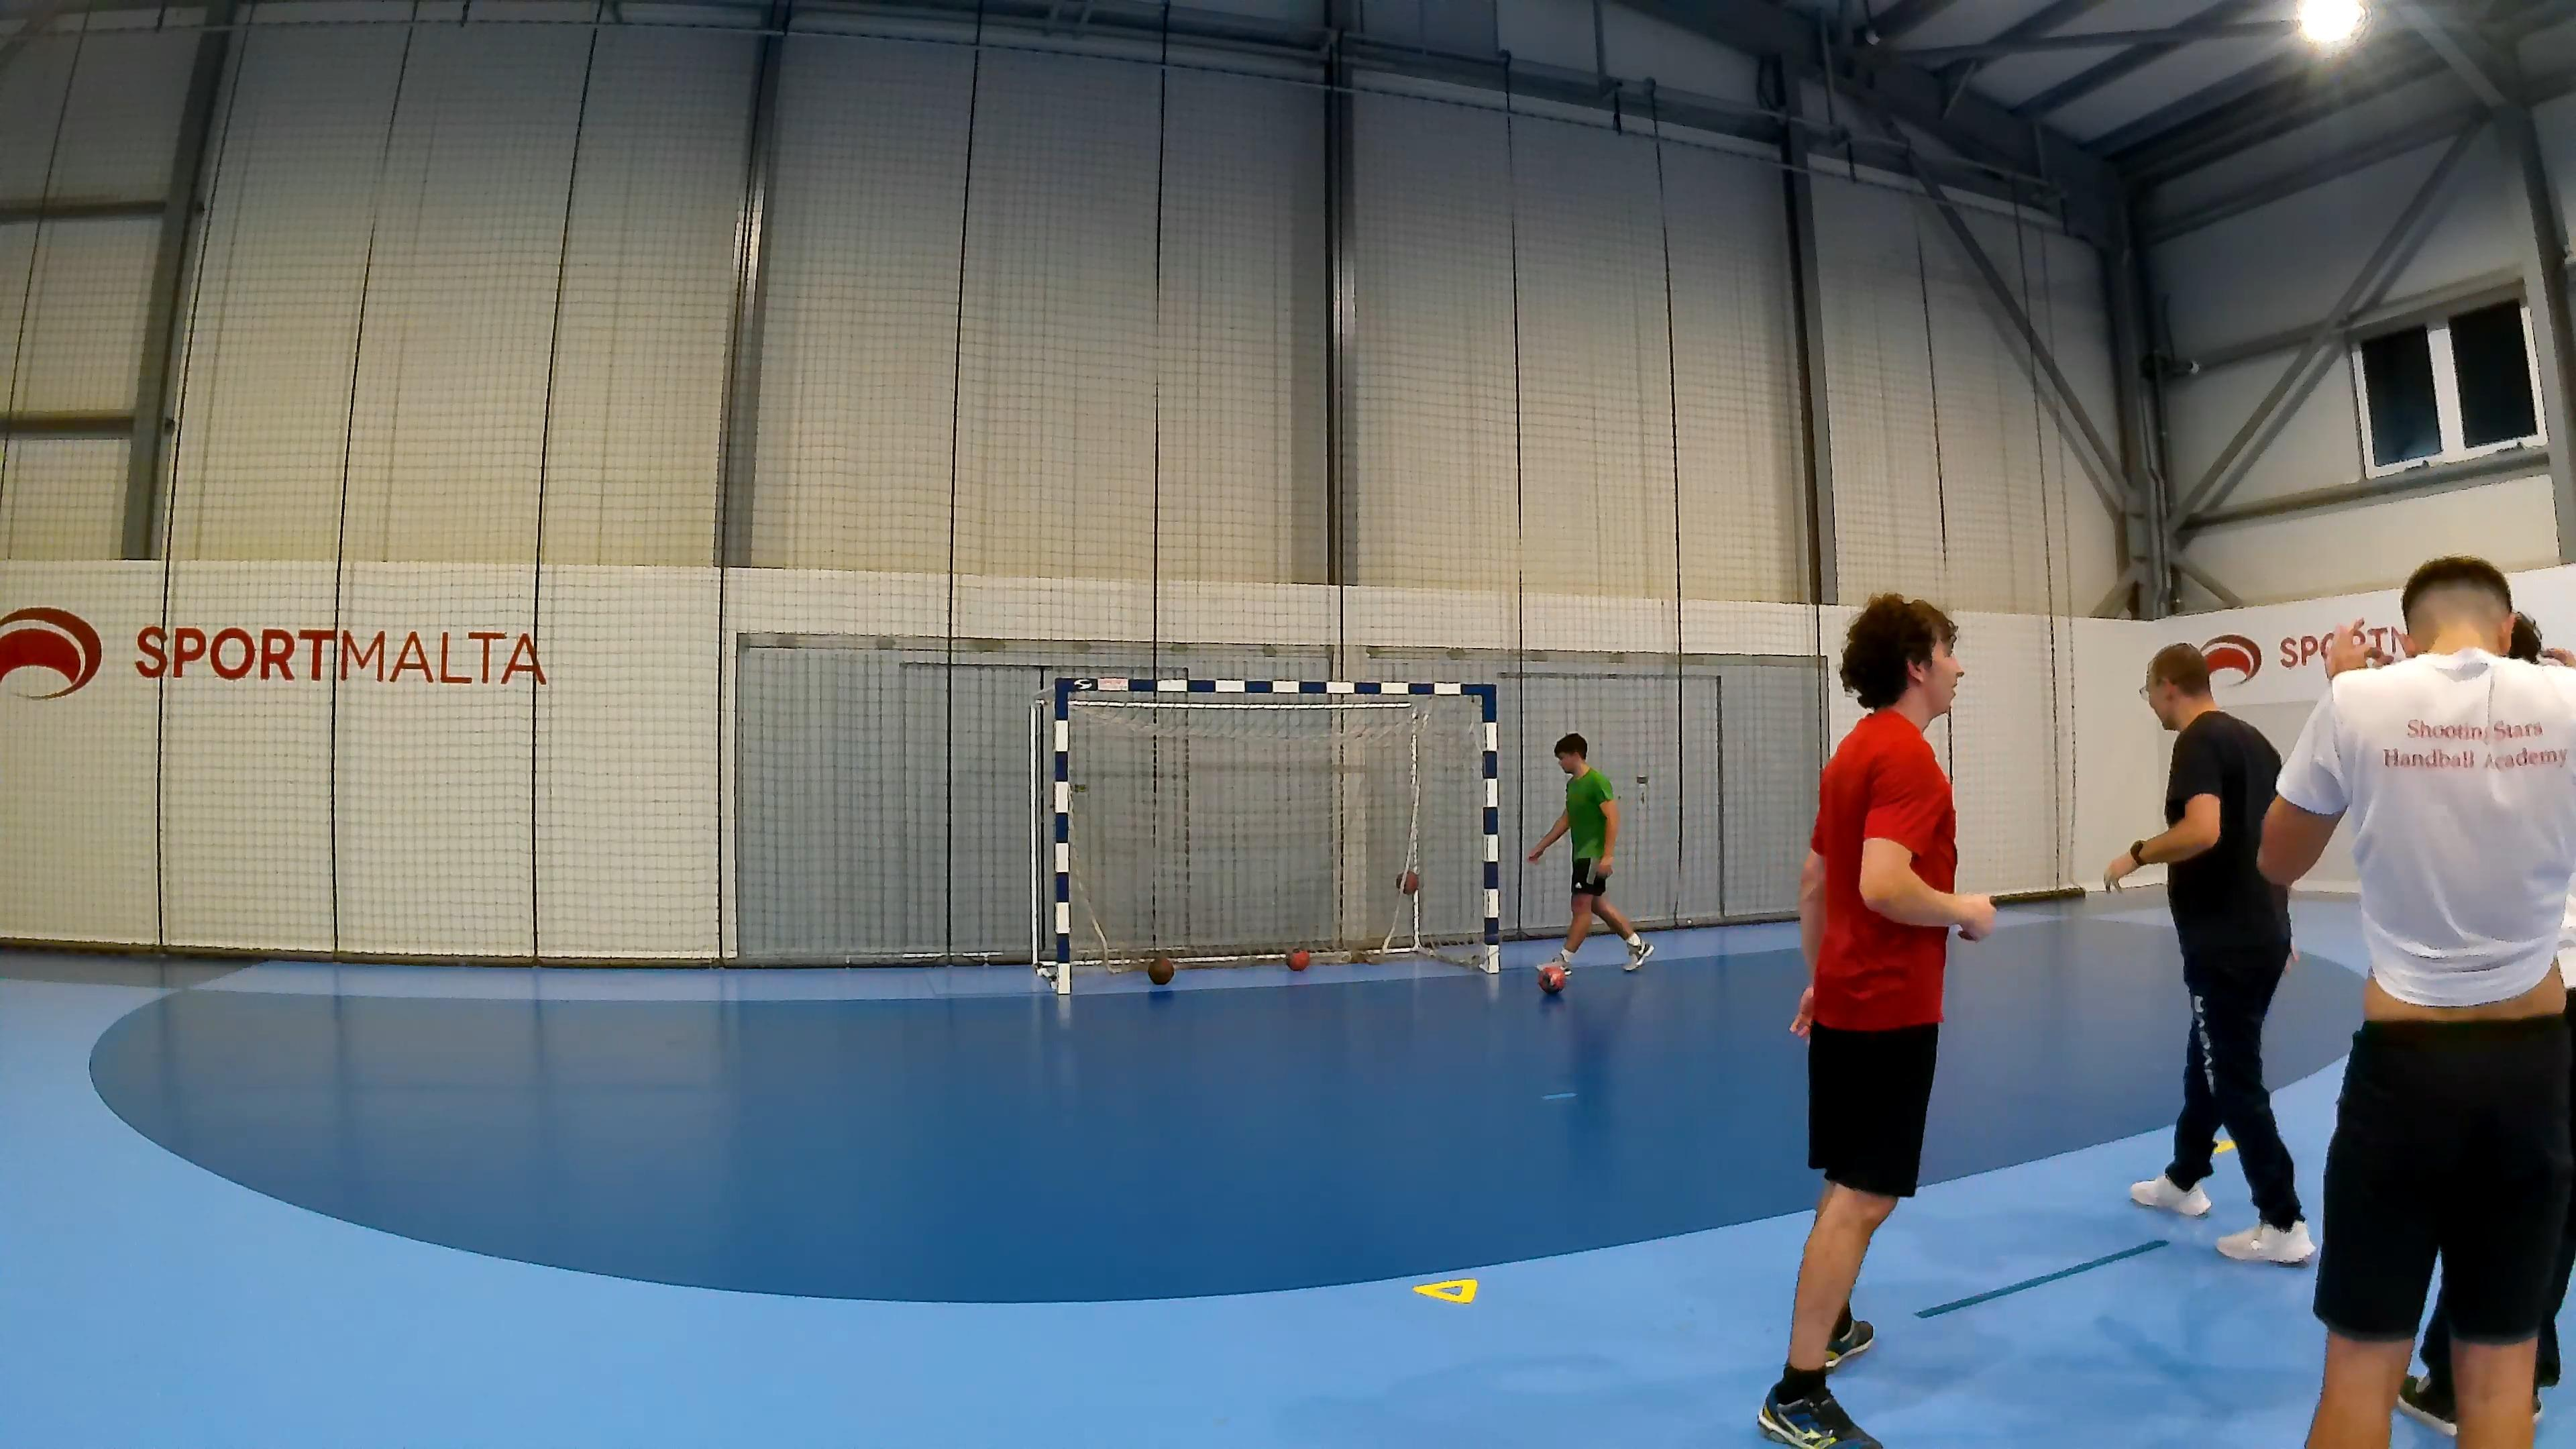handball: (1534, 957, 1571, 1003), (1146, 952, 1175, 985), (1286, 948, 1309, 971), (1398, 870, 1422, 892)
